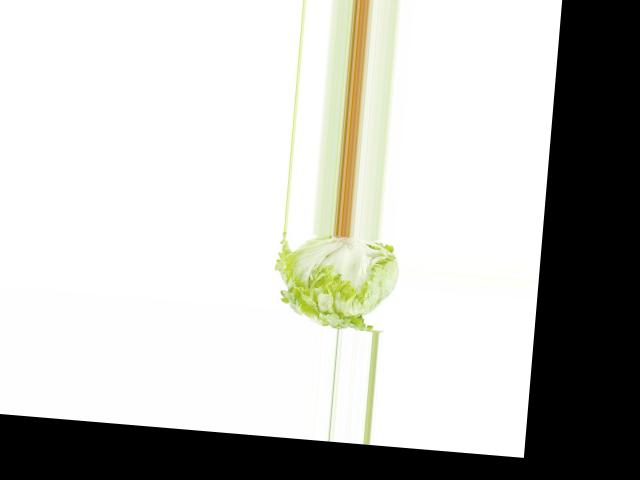lettuce: (266, 230, 405, 333)
